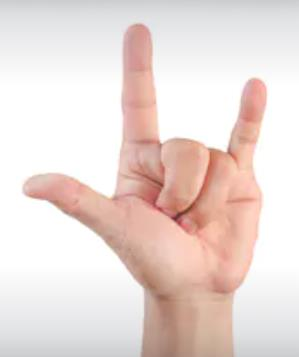back: (12, 17, 272, 304)
